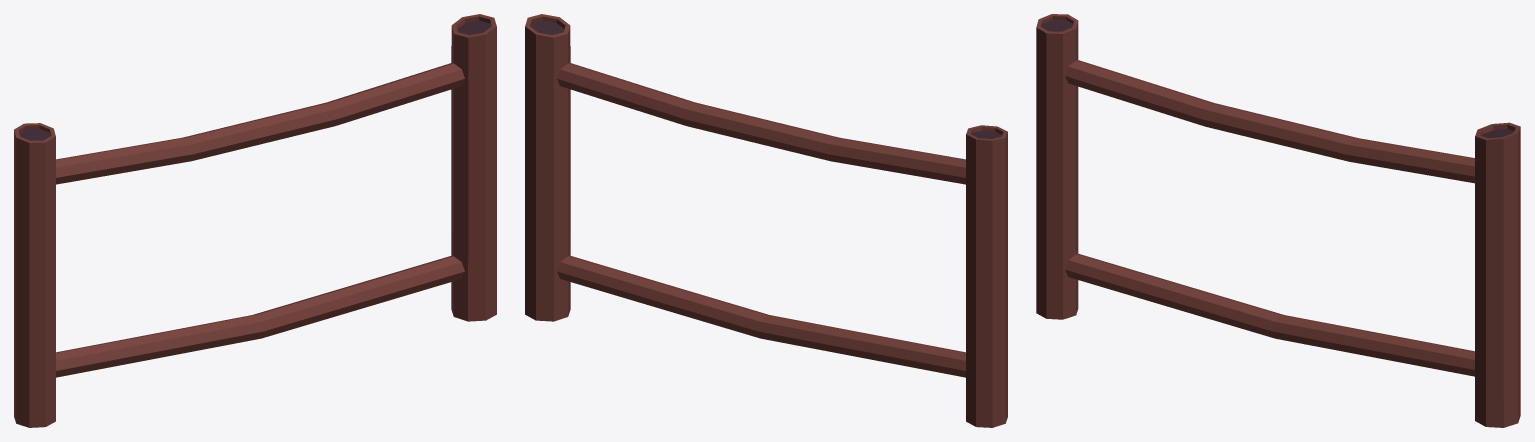
File: Fence_Wooden_01.fbx
3 renders of one model, left to right at view 1: azimuth 30°, elevation 25°; view 2: azimuth 150°, elevation 25°; view 3: azimuth 330°, elevation 25°, orthographic.
Visible parts, largest first — view 1: Fence_Wooden_01; view 2: Fence_Wooden_01; view 3: Fence_Wooden_01.
Part boxes in pixels (x1=…): Fence_Wooden_01: x1=14, y1=14, x2=496, y2=427; Fence_Wooden_01: x1=525, y1=14, x2=1007, y2=427; Fence_Wooden_01: x1=1036, y1=14, x2=1520, y2=427.
Bounding box in the file's own units: 216 × 125 × 18.59.
